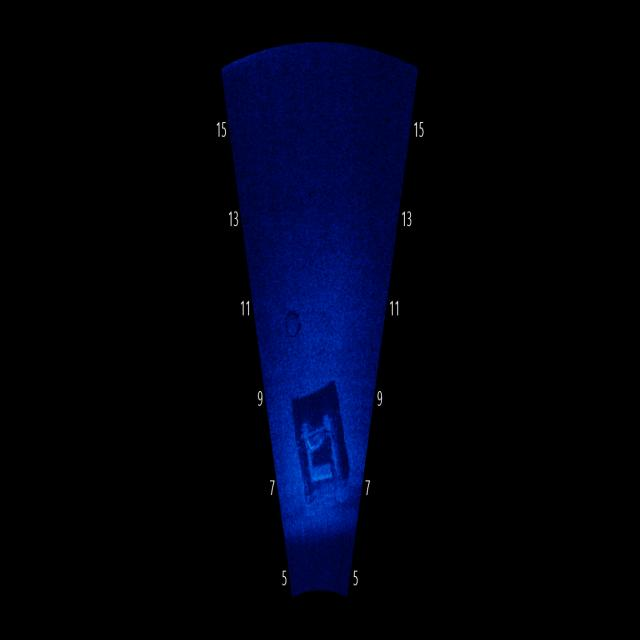square: (285, 381, 356, 524)
